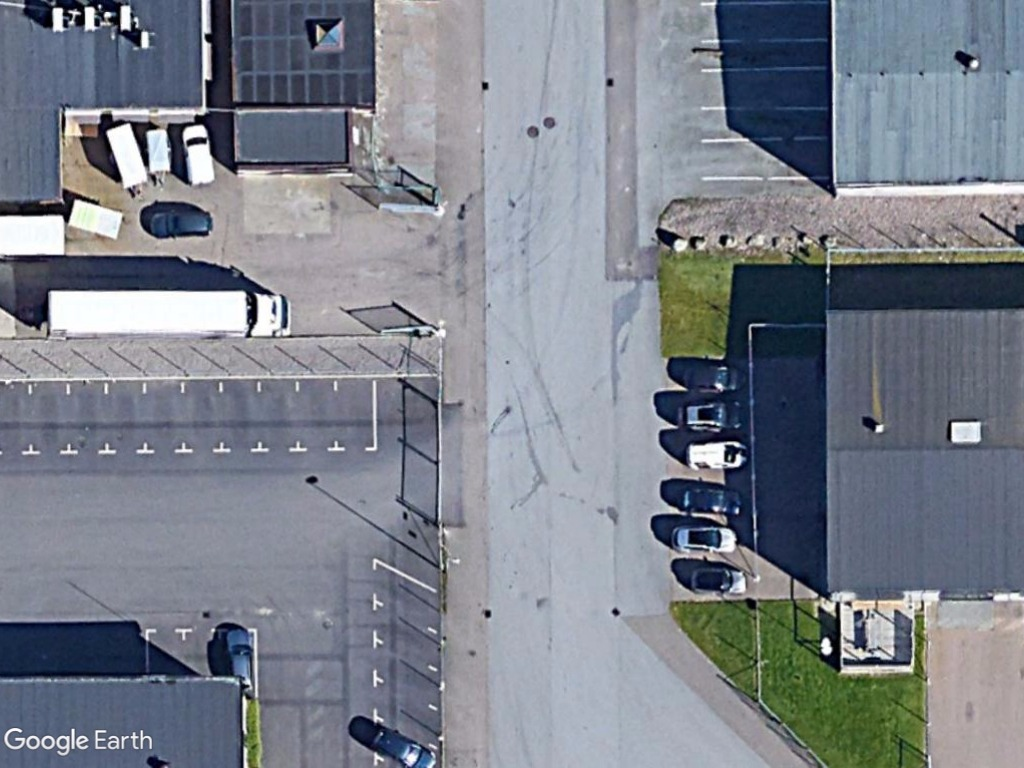car: (366, 725, 441, 768), (674, 482, 748, 521), (145, 206, 217, 242)
longvehicle: (39, 281, 298, 341)
van: (178, 119, 221, 190)
